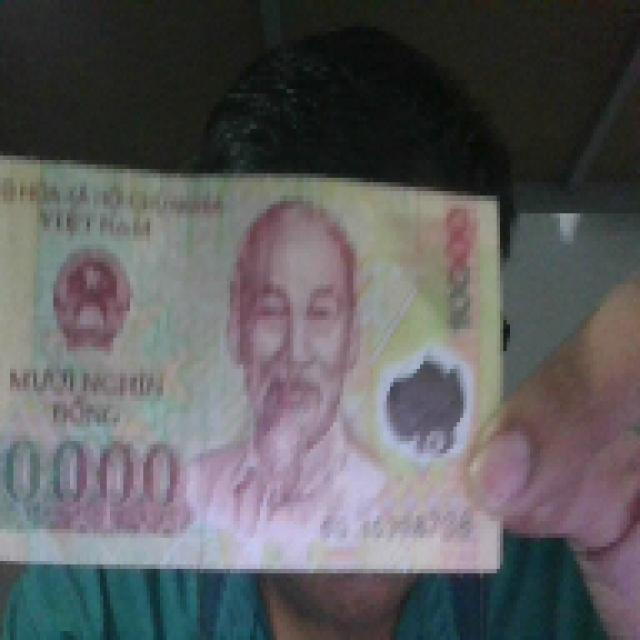10 000 VND: (0, 142, 510, 578)
